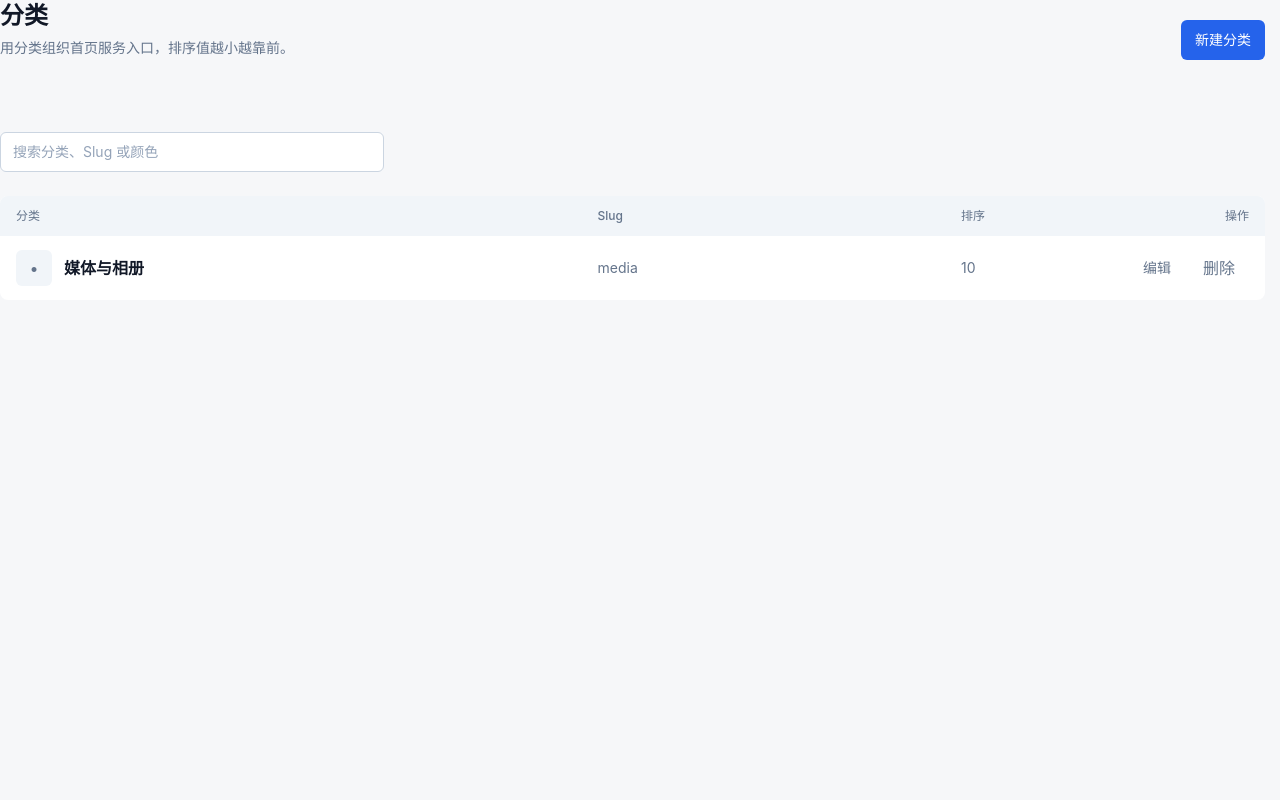
Test: CategoriesView › deletes categories through confirmation feedback and reloads
The width and height of the screenshot is (1280, 800).
What coordinates should you click on to do the following:
click the button "删除"
I would click on:
 (1219, 268)
Its box is left=1189, top=248, right=1249, bottom=288.
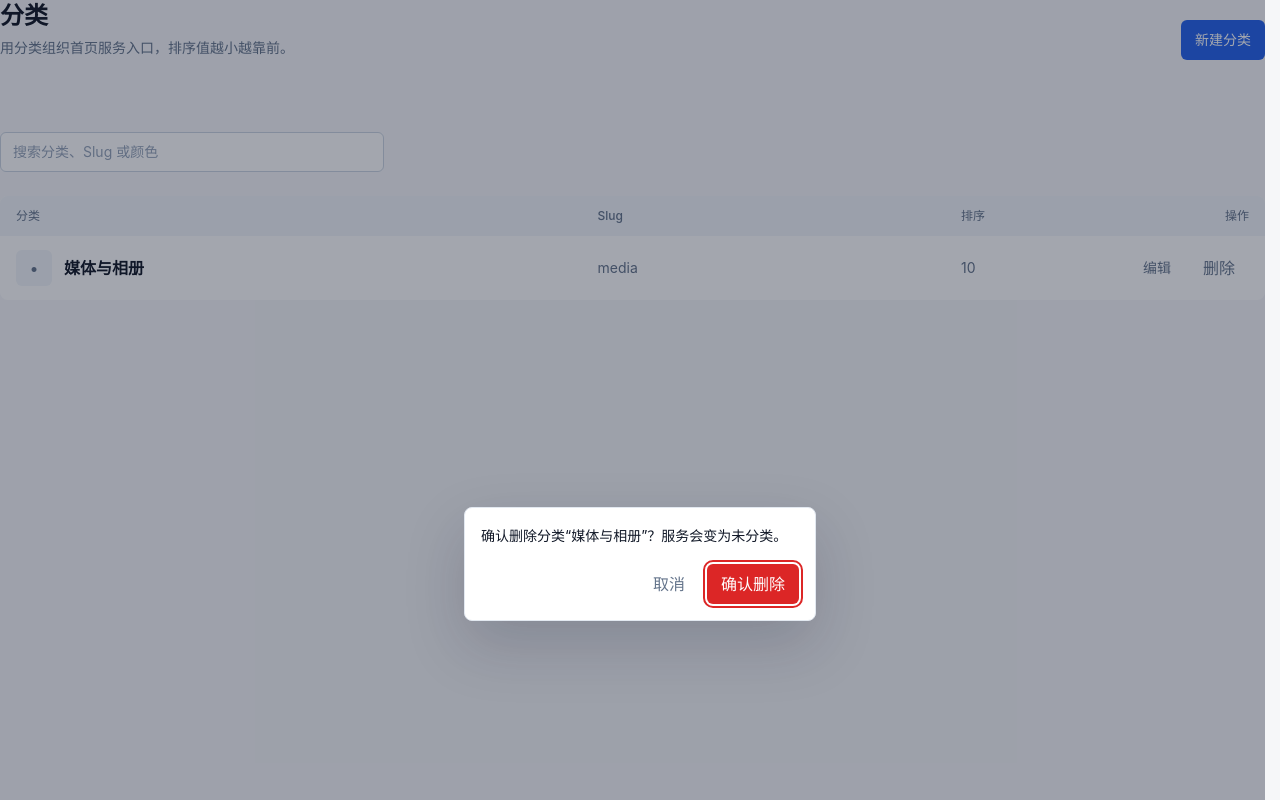
Expected: the text "确认删除分类“媒体与相册”？服务会变为未分类。" is shown, left=481, top=524, right=799, bottom=548
What coordinates should you click on to do the following:
click the button "确认删除"
I would click on:
 (753, 584)
Its box is left=707, top=564, right=799, bottom=604.
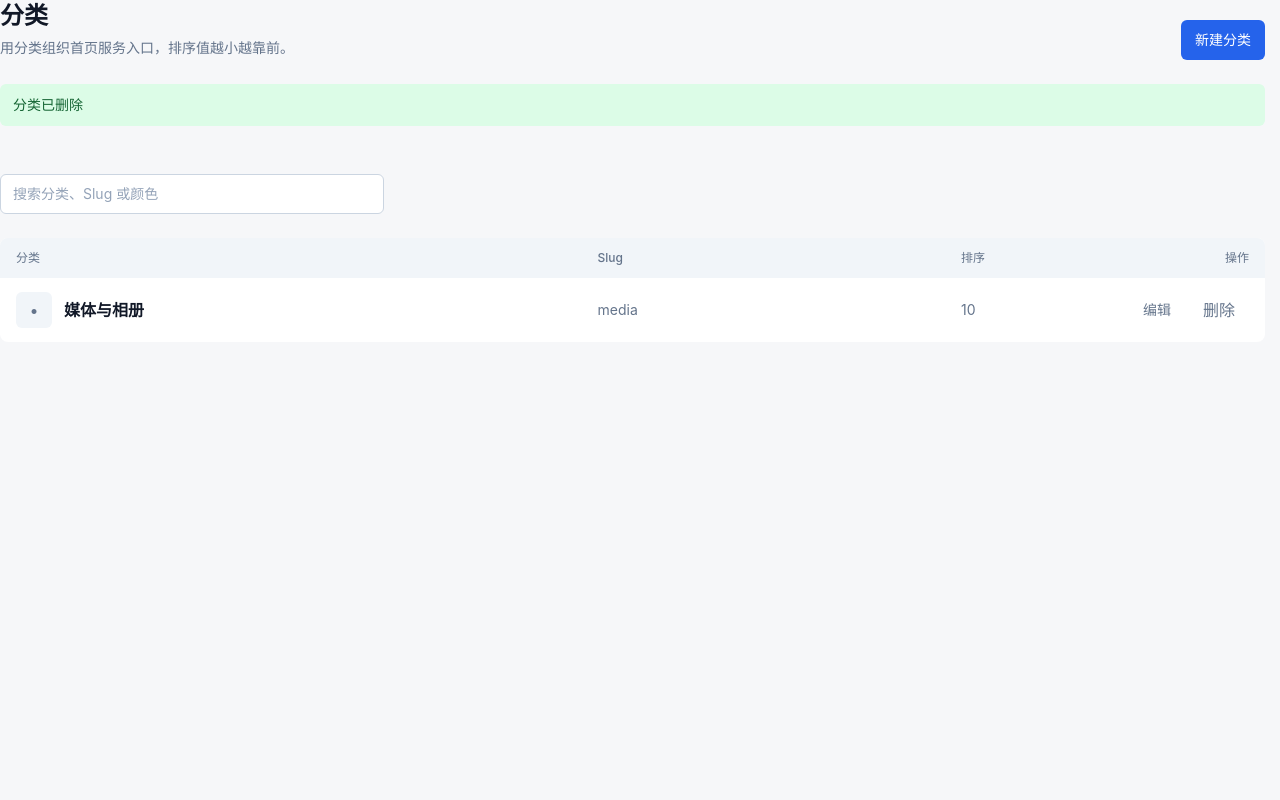
Expected: the text "分类已删除" is shown, left=0, top=84, right=1265, bottom=126
